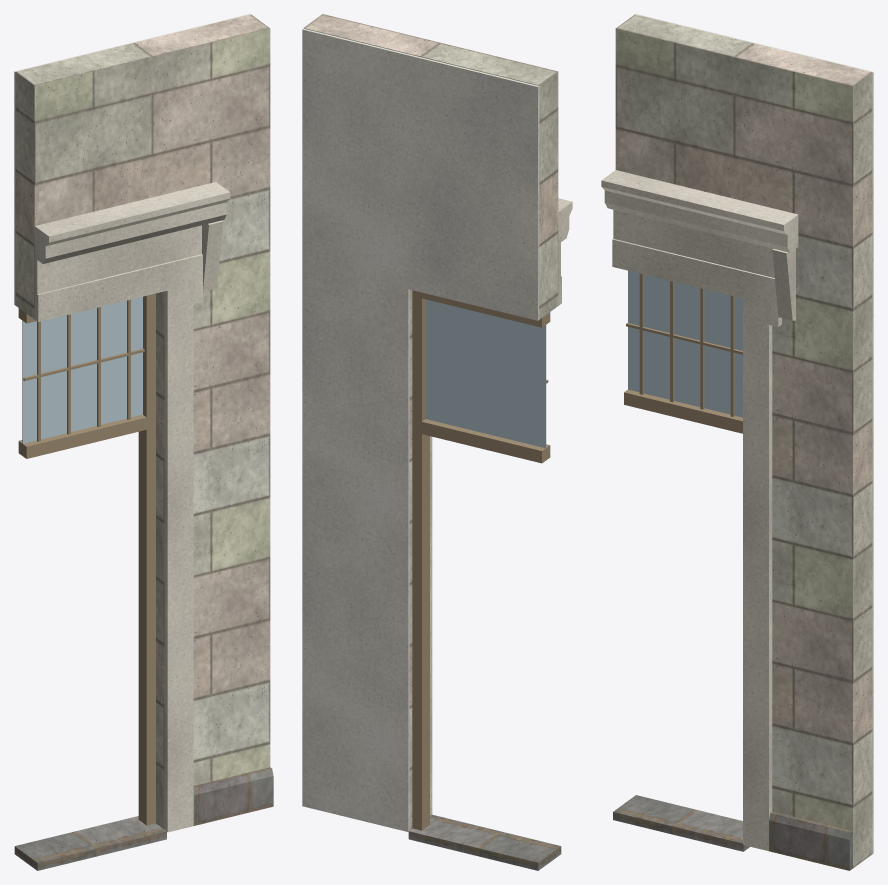
The model's file is f_door_r.glb.
3 views of the same model, side by side, from view 1: azimuth 30°, elevation 25°; view 2: azimuth 150°, elevation 25°; view 3: azimuth 330°, elevation 25° (orthographic).
Visible parts, largest first — view 1: f_door_r_stone, f_door_r_carve, f_door_r_bronze, f_door_r_glass, f_door_r_granite, f_door_r_plaster; view 2: f_door_r_plaster, f_door_r_glass, f_door_r_bronze, f_door_r_stone, f_door_r_granite, f_door_r_carve; view 3: f_door_r_stone, f_door_r_carve, f_door_r_glass, f_door_r_granite, f_door_r_bronze, f_door_r_plaster.
Part boxes in pixels (x1,y1,x2,y2): f_door_r_stone: [15, 14, 270, 828]; f_door_r_carve: [34, 182, 230, 832]; f_door_r_bronze: [18, 293, 155, 825]; f_door_r_glass: [22, 296, 142, 443]; f_door_r_granite: [14, 767, 273, 870]; f_door_r_plaster: [14, 14, 249, 305]; f_door_r_plaster: [302, 28, 539, 831]; f_door_r_glass: [425, 299, 546, 448]; f_door_r_bronze: [412, 290, 550, 830]; f_door_r_stone: [303, 14, 558, 829]; f_door_r_granite: [408, 814, 561, 870]; f_door_r_carve: [430, 198, 572, 815]; f_door_r_stone: [615, 14, 872, 868]; f_door_r_carve: [601, 170, 798, 851]; f_door_r_glass: [628, 270, 742, 417]; f_door_r_granite: [613, 795, 852, 870]; f_door_r_bronze: [624, 273, 742, 433]; f_door_r_plaster: [636, 14, 873, 853].
Bounding box in the file's own units: 2 × 6.36 × 0.51.
6 materials, 4 textured.
